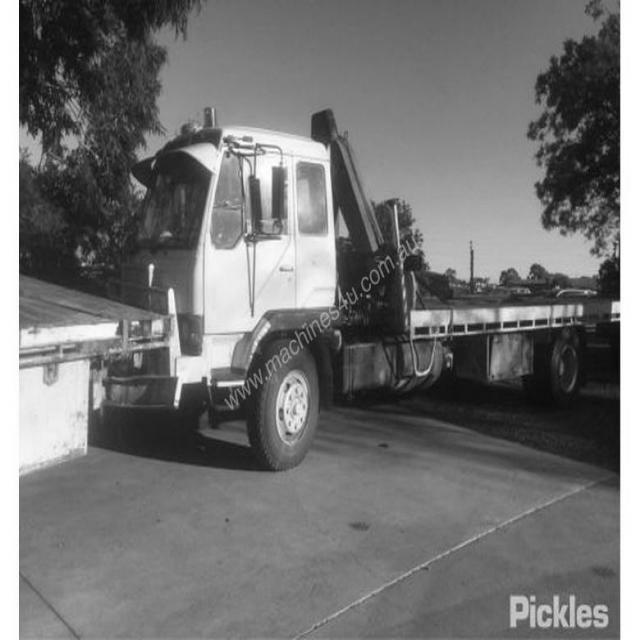truck: (73, 104, 398, 479)
